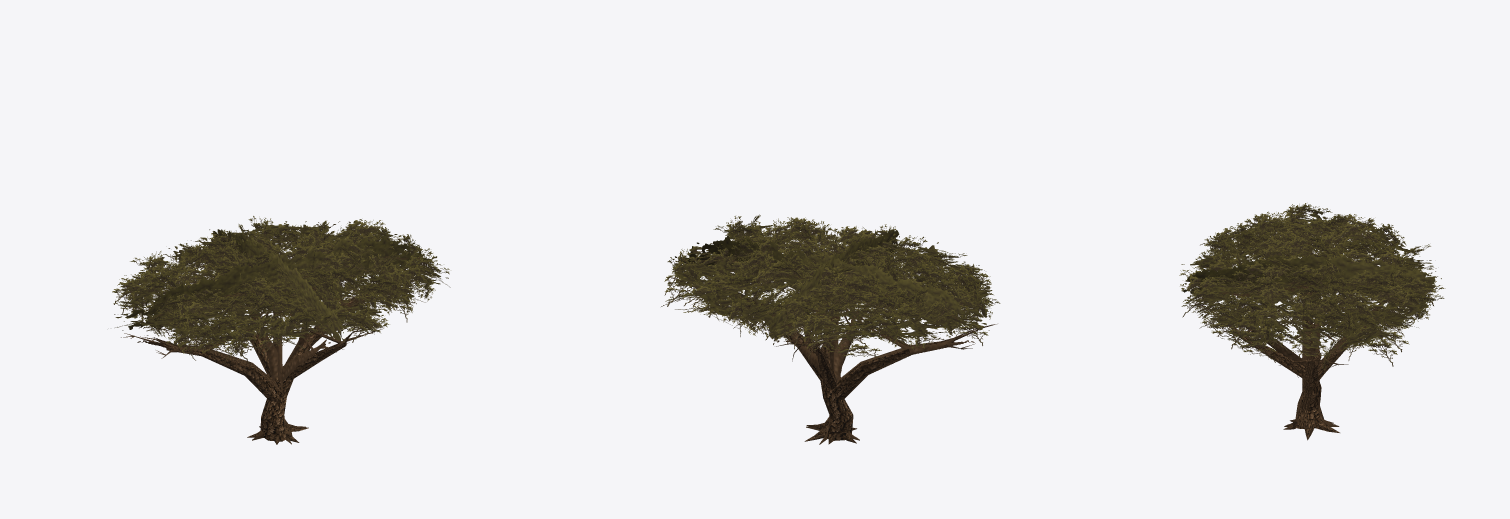
Rendered from Acacia_01_Copa_Ampla.glb.
The picture shows the model from 3 angles, left to right: view 1: azimuth 30°, elevation 25°; view 2: azimuth 150°, elevation 25°; view 3: azimuth 270°, elevation 25°; orthographic projection. The views are drawn at different scales.
Parts seen in each view (by area): view 1: Folhagem fina, Acacia_01_Copa_Ampla impostor, Ramos principais, Tronco e raizes; view 2: Folhagem fina, Acacia_01_Copa_Ampla impostor, Ramos principais, Tronco e raizes; view 3: Folhagem fina, Acacia_01_Copa_Ampla impostor, Tronco e raizes, Ramos principais.
Boxes of the visible parts, x1=… form: Folhagem fina: x1=112, y1=216, x2=450, y2=363; Acacia_01_Copa_Ampla impostor: x1=114, y1=221, x2=448, y2=444; Ramos principais: x1=166, y1=285, x2=382, y2=401; Tronco e raizes: x1=247, y1=378, x2=308, y2=444; Folhagem fina: x1=661, y1=214, x2=1000, y2=360; Acacia_01_Copa_Ampla impostor: x1=667, y1=222, x2=992, y2=444; Ramos principais: x1=728, y1=294, x2=954, y2=400; Tronco e raizes: x1=804, y1=381, x2=856, y2=444; Folhagem fina: x1=1179, y1=203, x2=1445, y2=371; Acacia_01_Copa_Ampla impostor: x1=1181, y1=208, x2=1441, y2=426; Tronco e raizes: x1=1283, y1=377, x2=1339, y2=440; Ramos principais: x1=1232, y1=301, x2=1384, y2=387.
Size of what is drawn, in the model's own units: 11.78 by 11.78 by 11.78.
Materials: 3 (3 with a texture image).
